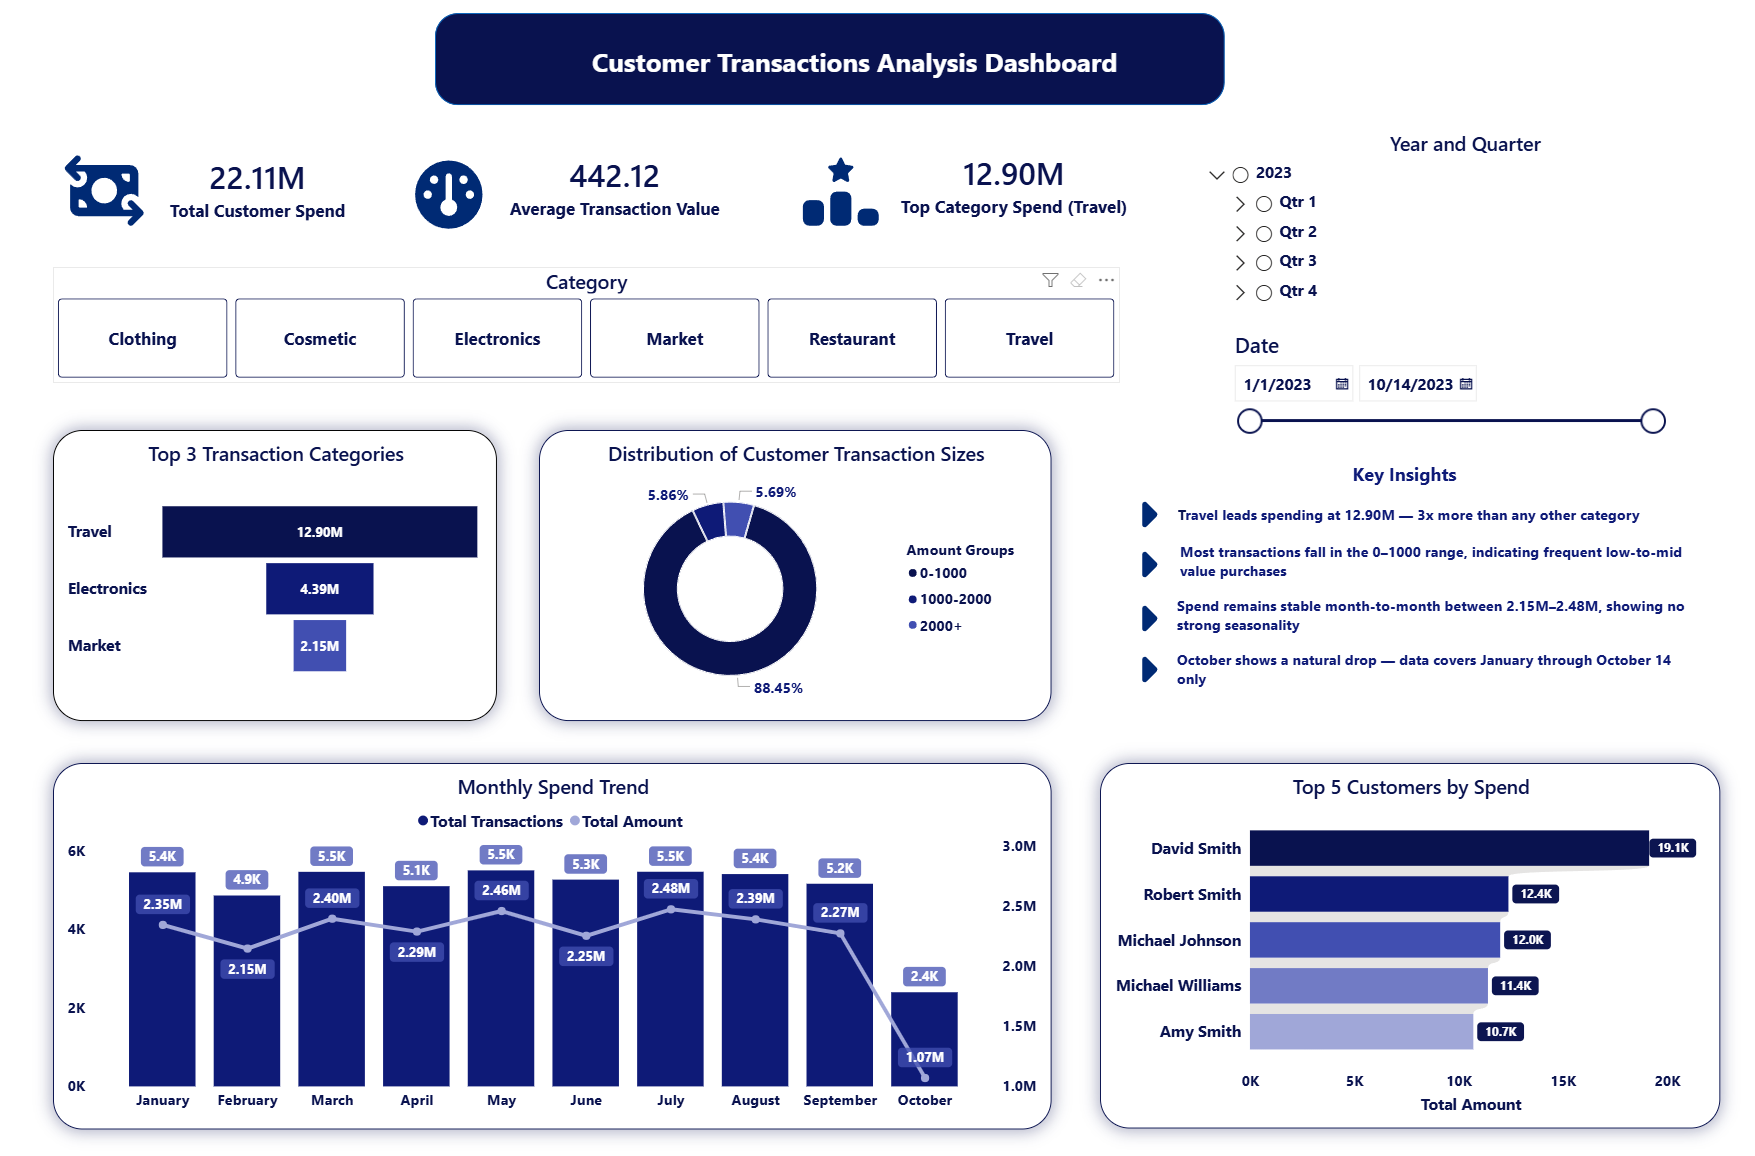

This screenshot's page, from the dashboard's own definition file:
{"tool":"powerbi","page":{"name":"Page 1","canvas":[1800,1200],"ordinal":0},"visuals":[{"type":"group","id":"g1","title":"Group 1","box":[447,15,806,94],"z":0},{"type":"shape","box":[447,15,805.8,94.2],"z":0,"group":"g1"},{"type":"image","box":[1136.7,501.5,73.7,51.9],"z":0,"group":"g4"},{"type":"group","id":"g2","title":"Group 8","box":[1136.7,549.7,607.3,58.7],"z":0,"group":"g12"},{"type":"lineStackedColumnComboChart","title":"Monthly Spend Trend","fields":{"Category":["Customer Transactions Analysis.Month Name"],"Y2":["Customer Transactions Analysis.Total Amount"],"Y":["Customer Transactions Analysis.Total Transactions"]},"box":[56.7,781.1,1019,374],"z":0,"group":"g5"},{"type":"textbox","box":[600.6,41.2,548.3,47.5],"z":1000,"group":"g1"},{"type":"group","id":"g3","title":"Group 5","box":[46.7,128.9,1136.7,122.2],"z":1000},{"type":"funnel","title":"Top 3 Transaction Categories","fields":{"Category":["Customer Transactions Analysis.Category"],"Y":["Customer Transactions Analysis.Total Amount"]},"box":[56.7,441.1,453,297],"z":1000,"group":"g5"},{"type":"group","id":"g4","title":"Group 9","box":[1136.7,501.5,610.9,51.9],"z":1000,"group":"g12"},{"type":"textbox","box":[1199.7,511.2,547.9,32.5],"z":1000,"group":"g4"},{"type":"group","id":"g5","title":"Group 6","box":[56.7,441.1,1017.8,713.3],"z":2000},{"type":"donutChart","title":"Distribution of Customer Transaction Sizes","fields":{"Category":["Customer Transactions Analysis.Amount Groups"],"Y":["Divide(CountNonNull(Customer Transactions Analysis.Amount Groups), ScopedEval(CountNonNull(Customer Transactions Analysi"]},"box":[552.7,441.1,523,297],"z":2000,"group":"g5"},{"type":"group","id":"g6","title":"Group 10","box":[1136.7,604.6,605,58.7],"z":2000,"group":"g12"},{"type":"cardVisual","fields":{"Data":["Customer Transactions Analysis.Average Amount"]},"box":[491.8,133.2,277.5,118.3],"z":3000,"group":"g11"},{"type":"cardVisual","fields":{"Data":["Customer Transactions Analysis.Total Amount"]},"box":[140.4,144.5,250.5,100],"z":3000,"group":"g9"},{"type":"advancedSlicerVisual","fields":{"Values":["Customer Transactions Analysis.Category"]},"box":[56.7,274.4,1088.9,118.9],"z":3000},{"type":"group","id":"g7","title":"Group 11","box":[1136.7,659.6,605,58.7],"z":3000,"group":"g12"},{"type":"cardVisual","fields":{"Data":["Customer Transactions Analysis.Top Category Amount"]},"box":[891.5,128.9,292.5,122.5],"z":4000,"group":"g10"},{"type":"barChart","title":"Top 5 Customers by Spend","fields":{"Y":["Customer Transactions Analysis.Total Amount"],"Category":["Customer Transactions Analysis.Full Name"]},"box":[1125.6,781.1,633.3,373.3],"z":4000},{"type":"listSlicer","fields":{"Values":["Customer Transactions Analysis.Date.Variation.Date Hierarchy.Year","Customer Transactions Analysis.Date.Variation.Date Hierarchy.Quarter","Customer Transactions Analysis.Date.Variation.Date Hierarchy.Month","Customer Transactions Analysis.Date.Variation.Date Hierarchy.Day"]},"box":[1231.1,133.3,535.6,195.6],"z":5000},{"type":"group","id":"g8","title":"Group 13","box":[1136.7,467.8,611.1,250],"z":6000},{"type":"slicer","fields":{"Values":["Customer Transactions Analysis.Date"]},"box":[1250,334.4,461.1,153.3],"z":6001},{"type":"group","id":"g9","title":"Group 2","box":[46.7,144.5,344.4,100],"z":8000,"group":"g3"},{"type":"group","id":"g10","title":"Group 3","box":[800.7,128.9,383.3,122],"z":9000,"group":"g3"},{"type":"image","box":[46.7,154.1,124.4,86.7],"z":9003,"group":"g9"},{"type":"group","id":"g11","title":"Group 4","box":[401,133.2,369,118],"z":10000,"group":"g3"},{"type":"image","box":[401,158,120,86.7],"z":10000,"group":"g11"},{"type":"image","box":[800.7,154.7,120,86.7],"z":11000,"group":"g10"},{"type":"image","box":[1136.7,552.9,73.7,51.9],"z":11000,"group":"g2"},{"type":"image","box":[1136.7,607.7,74,51.8],"z":11001,"group":"g6"},{"type":"image","box":[1136.7,659.6,74,51.8],"z":11002,"group":"g7"},{"type":"textbox","box":[1358.4,467.8,156.3,39.3],"z":11004,"group":"g8"},{"type":"textbox","box":[1201.9,549.7,542.6,58.4],"z":11006,"group":"g2"},{"type":"textbox","box":[1198.5,604.6,543.2,58.7],"z":11006,"group":"g6"},{"type":"textbox","box":[1198.5,659.6,543.2,58.7],"z":11009,"group":"g7"},{"type":"group","id":"g12","title":"Group 12","box":[1136.7,501.5,610.9,216.8],"z":11012,"group":"g8"}]}

Visuals, with their boxes in screenshot pixels (x1, y1, x2, y2), scaled from the page's 1800x1200 canvas onto the 1755x1156 screenshot:
"Group 1" group: [436,14,1222,105]
shape: [436,14,1221,105]
image: [1108,483,1180,533]
"Group 8" group: [1108,530,1700,586]
"Monthly Spend Trend" lineStackedColumnComboChart: [55,752,1049,1113]
textbox: [586,40,1120,85]
"Group 5" group: [46,124,1154,242]
"Top 3 Transaction Categories" funnel: [55,425,497,711]
"Group 9" group: [1108,483,1704,533]
textbox: [1170,492,1704,524]
"Group 6" group: [55,425,1048,1112]
"Distribution of Customer Transaction Sizes" donutChart: [539,425,1049,711]
"Group 10" group: [1108,582,1698,639]
cardVisual - Customer Transactions Analysis.Average Amount: [480,128,750,242]
cardVisual - Customer Transactions Analysis.Total Amount: [137,139,381,236]
advancedSlicerVisual - Customer Transactions Analysis.Category: [55,264,1117,379]
"Group 11" group: [1108,635,1698,692]
cardVisual - Customer Transactions Analysis.Top Category Amount: [869,124,1154,242]
"Top 5 Customers by Spend" barChart: [1097,752,1715,1112]
listSlicer - Customer Transactions Analysis.Date.Variation.Date Hierarchy.Year x Customer Transactions Analysis.Date.Variation.Date Hierarchy.Quarter: [1200,128,1723,317]
"Group 13" group: [1108,451,1704,691]
slicer - Customer Transactions Analysis.Date: [1219,322,1668,470]
"Group 2" group: [46,139,381,236]
"Group 3" group: [781,124,1154,242]
image: [46,148,167,232]
"Group 4" group: [391,128,751,242]
image: [391,152,508,236]
image: [781,149,898,233]
image: [1108,533,1180,583]
image: [1108,585,1180,635]
image: [1108,635,1180,685]
textbox: [1324,451,1477,489]
textbox: [1172,530,1701,586]
textbox: [1169,582,1698,639]
textbox: [1169,635,1698,692]
"Group 12" group: [1108,483,1704,692]
